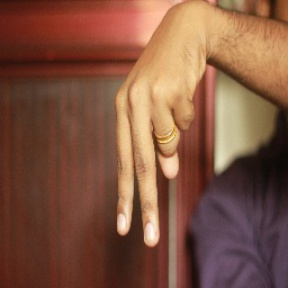Y: (109, 61, 198, 248)
